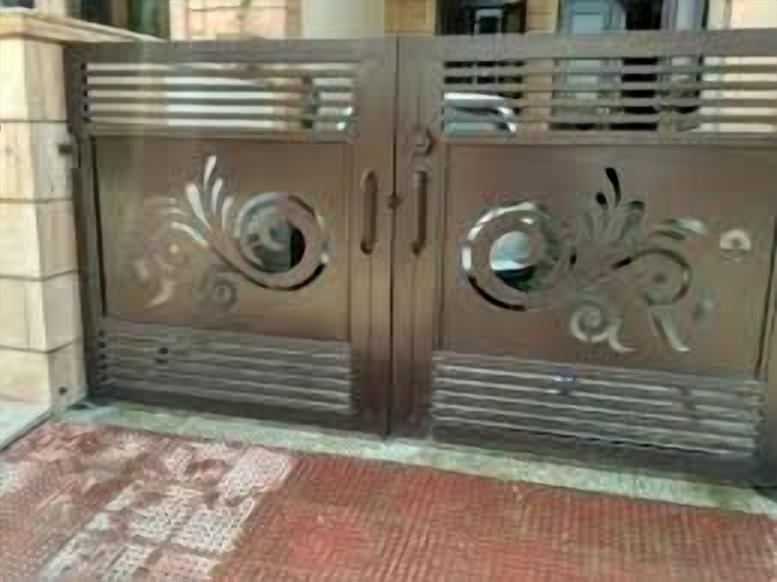Car: (337, 89, 522, 180)
Gate: (58, 28, 777, 492)
Window-without-grill: (553, 0, 708, 139), (440, 0, 524, 106), (76, 0, 173, 66)
